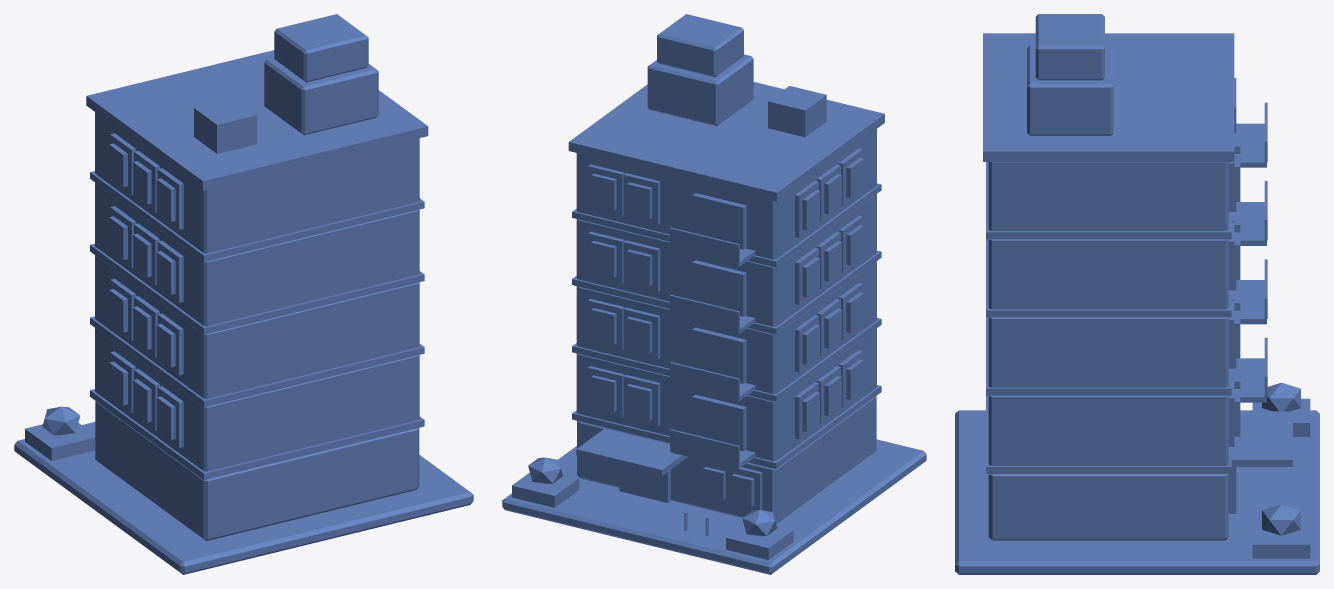
The picture shows the model from 3 angles, left to right: view 1: azimuth 30°, elevation 25°; view 2: azimuth 150°, elevation 25°; view 3: azimuth 270°, elevation 25°; orthographic projection. The views are drawn at different scales.
Parts seen in each view (by area): view 1: corpo; view 2: corpo; view 3: corpo.
Part boxes in pixels (x1,y1,x2,y2): corpo: [14, 14, 473, 574]; corpo: [502, 14, 926, 574]; corpo: [955, 14, 1319, 574].
Bounding box in the file's own units: 1.9 × 2.84 × 1.9.
